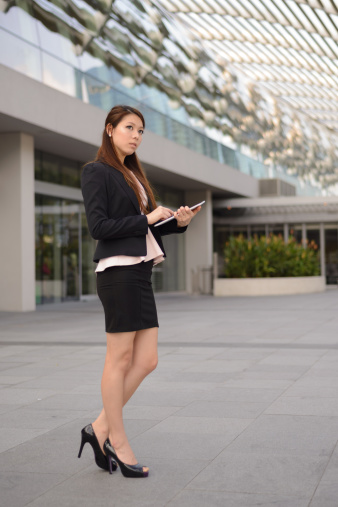em pe: (81, 99, 193, 472)
